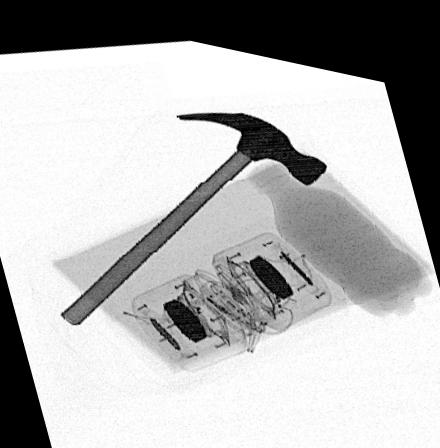Hammer: (60, 101, 328, 322)
